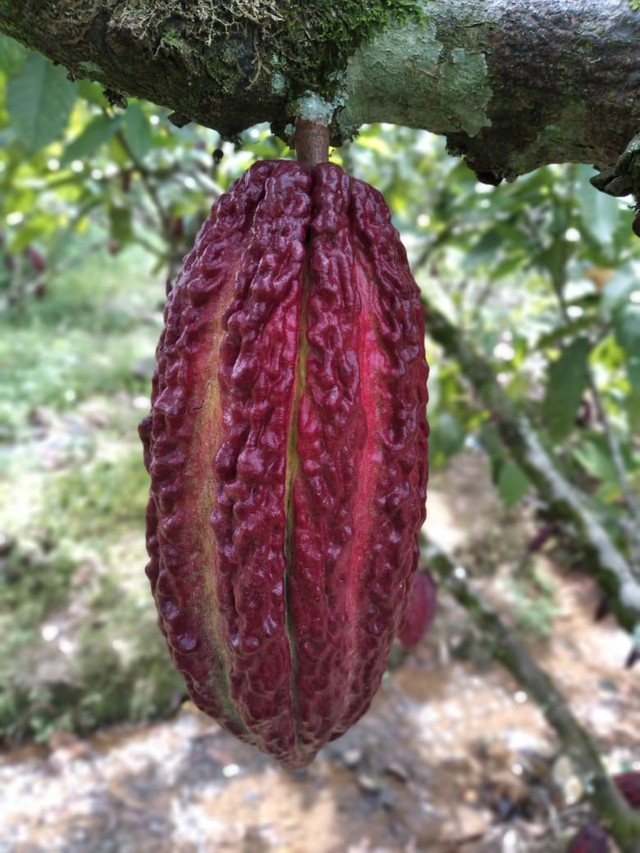Health: (136, 151, 437, 773)
